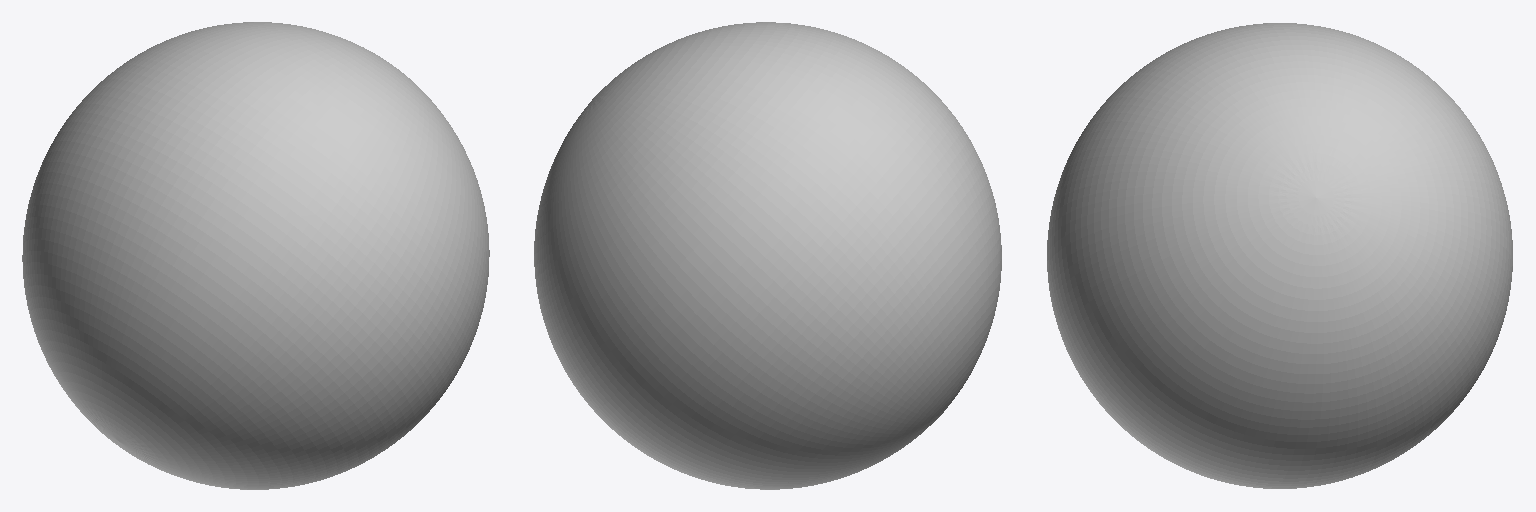
3 renders of one model, left to right at view 1: azimuth 30°, elevation 25°; view 2: azimuth 150°, elevation 25°; view 3: azimuth 270°, elevation 25°, orthographic.
Visible parts, largest first — view 1: Moon_Sphere; view 2: Moon_Sphere; view 3: Moon_Sphere.
Boxes of the visible parts, box(x1,y1,x2,y2) form: Moon_Sphere: box(22, 22, 489, 489); Moon_Sphere: box(534, 22, 1001, 489); Moon_Sphere: box(1047, 23, 1512, 488).
Size of the model in its own units: 334 by 333 by 333.